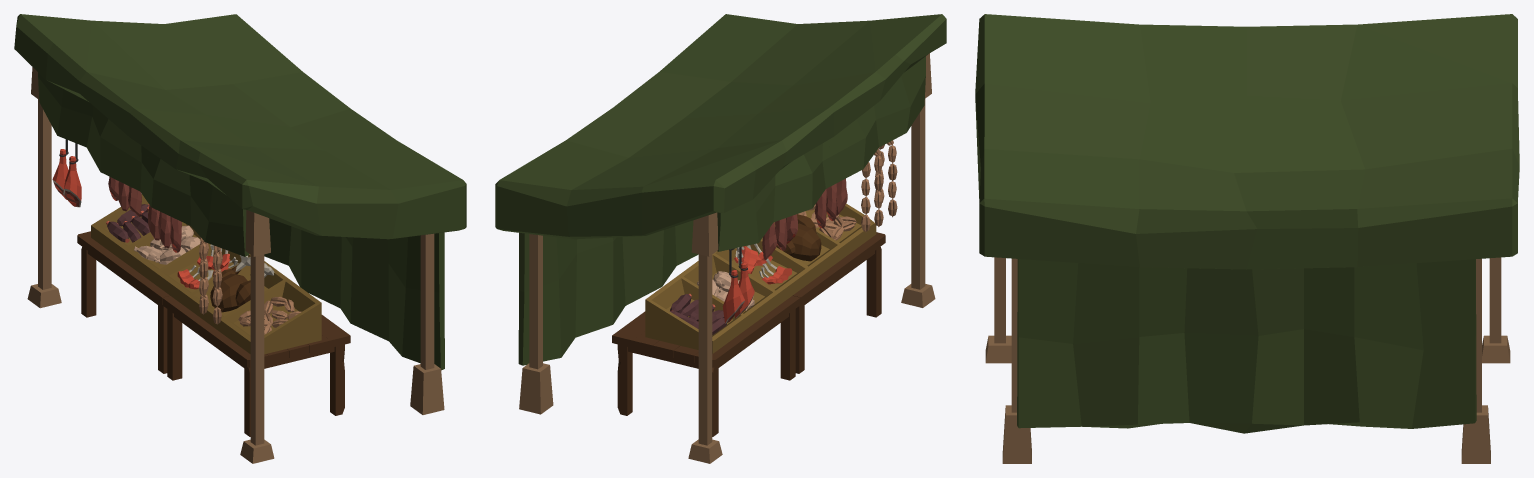
The model's file is meat_shop.fbx.
3 views of the same model, side by side, from view 1: azimuth 30°, elevation 25°; view 2: azimuth 150°, elevation 25°; view 3: azimuth 270°, elevation 25° (orthographic). The views are drawn at different scales.
Parts seen in each view (by area): view 1: meat_shop; view 2: meat_shop; view 3: meat_shop.
Boxes of the visible parts, x1=… form: meat_shop: x1=14, y1=14, x2=466, y2=463; meat_shop: x1=495, y1=14, x2=946, y2=463; meat_shop: x1=975, y1=14, x2=1519, y2=463.
Bounding box in the file's own units: 203 × 239 × 354.
